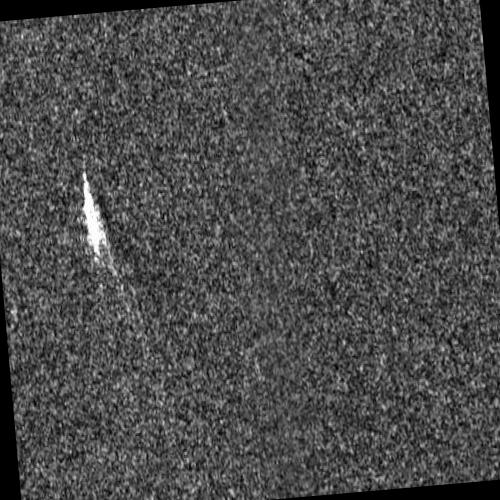ship: (81, 168, 100, 254)
